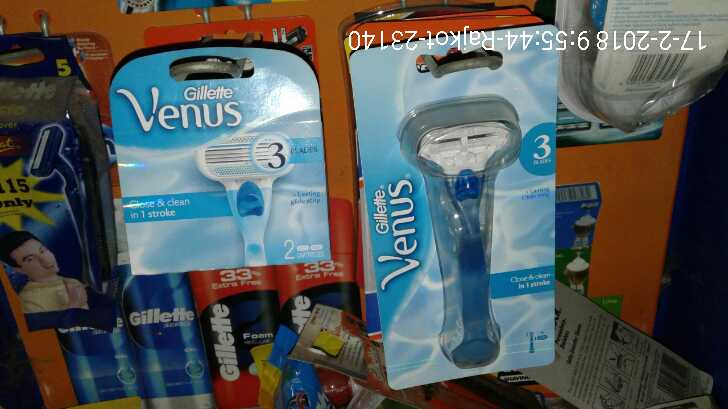venus: (348, 52, 566, 383), (113, 51, 331, 267)
